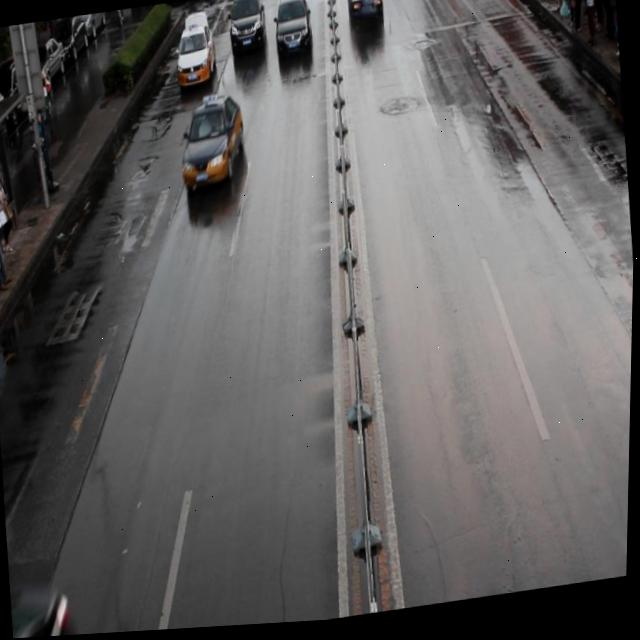car: (174, 91, 248, 193), (172, 24, 219, 90), (270, 0, 314, 62), (225, 0, 269, 58), (343, 0, 385, 35)
